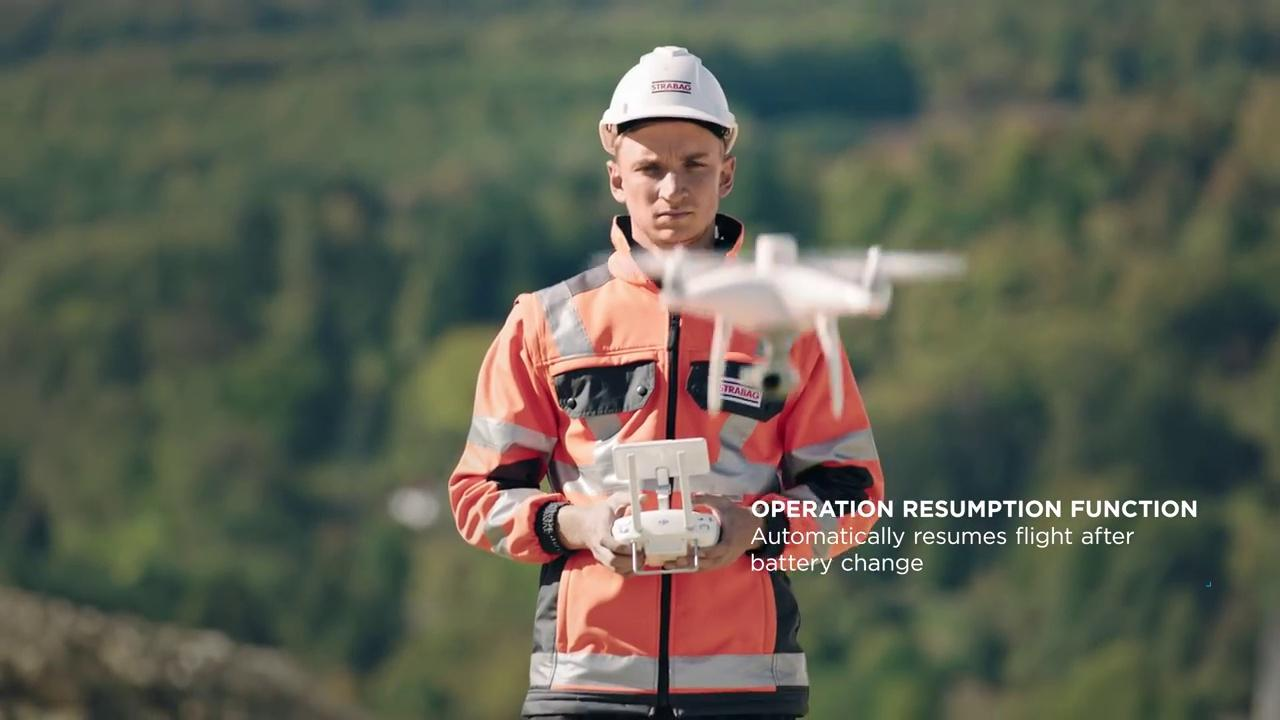drone: (605, 237, 967, 413)
